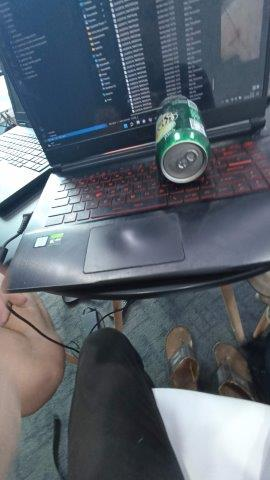kaleng: (156, 95, 210, 183)
